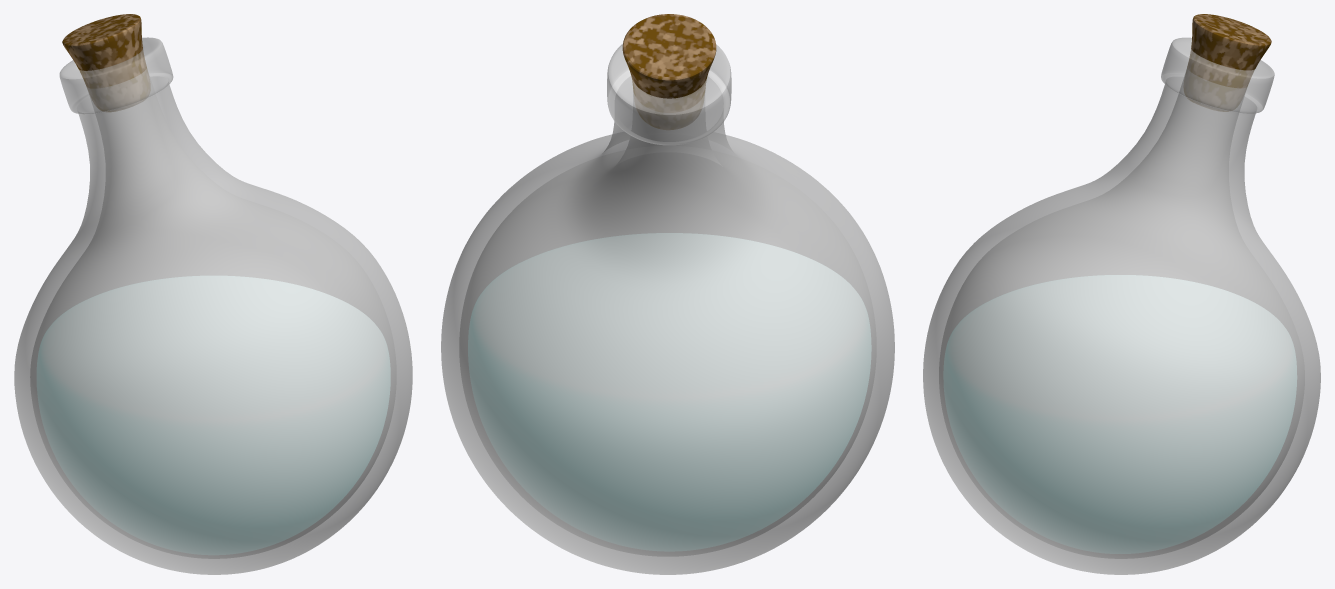
The model's file is frost.fbx.
3 views of the same model, side by side, from view 1: azimuth 30°, elevation 25°; view 2: azimuth 150°, elevation 25°; view 3: azimuth 270°, elevation 25° (orthographic). The views are drawn at different scales.
Visible parts, largest first — view 1: bottle; view 2: bottle; view 3: bottle.
Boxes of the visible parts, bbox=[...] form: bottle: bbox=[14, 14, 412, 574]; bottle: bbox=[441, 14, 894, 574]; bottle: bbox=[923, 14, 1320, 574].
Bounding box in the file's own units: 169 × 240 × 169.
Materials: 3 (1 with a texture image).
